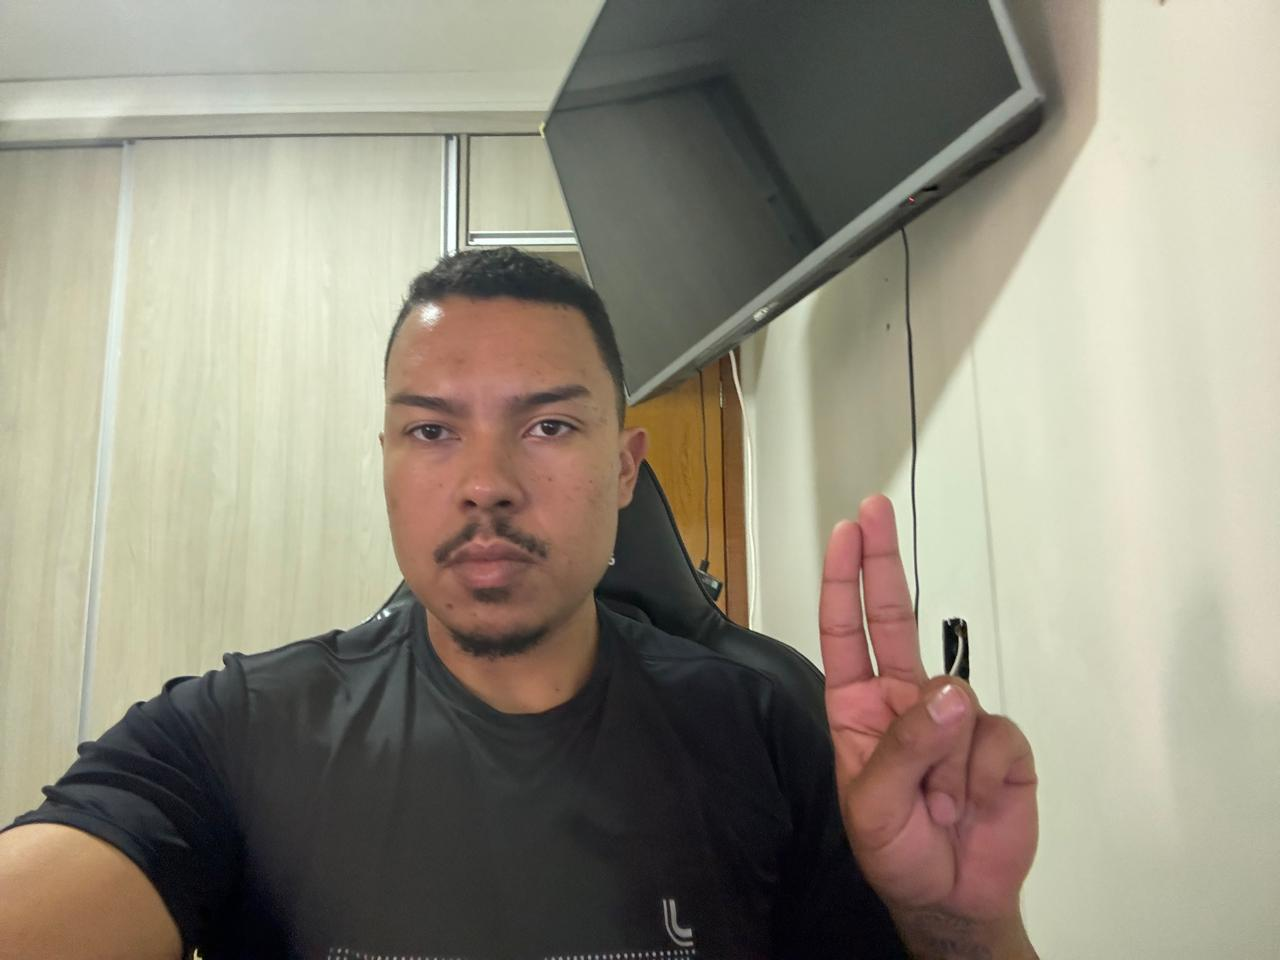u: (815, 487, 1046, 919)
